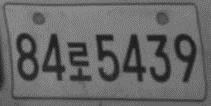3: (146, 32, 171, 83)
4: (121, 33, 147, 81), (41, 32, 66, 80)
5: (95, 33, 120, 81)
8: (15, 31, 38, 81)
9: (173, 31, 197, 82)
로: (67, 41, 93, 81)
